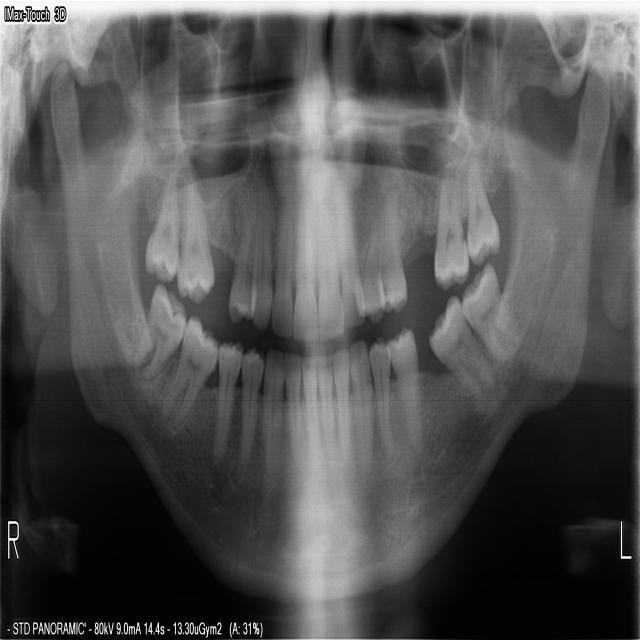LCD: (345, 334, 371, 478)
LID: (313, 350, 334, 476), (329, 344, 348, 477)
LIU: (312, 178, 344, 348), (334, 176, 364, 331)
LMD: (425, 290, 494, 411), (457, 258, 520, 363)
LMU: (428, 163, 467, 292), (463, 150, 499, 265)
LPMD: (383, 321, 420, 461), (365, 330, 389, 455)
LPMU: (372, 182, 407, 313), (351, 187, 384, 324)
RCD: (258, 340, 285, 486)
RCU: (245, 172, 271, 328)
RID: (280, 349, 299, 471), (298, 349, 317, 467)
RIU: (267, 179, 292, 341), (289, 187, 315, 341)
RMD: (153, 307, 217, 429), (124, 276, 185, 374)
RMU: (172, 158, 214, 302), (139, 158, 179, 285)
RPMD: (207, 333, 242, 464), (235, 338, 263, 465)
RPMU: (223, 165, 256, 328)
